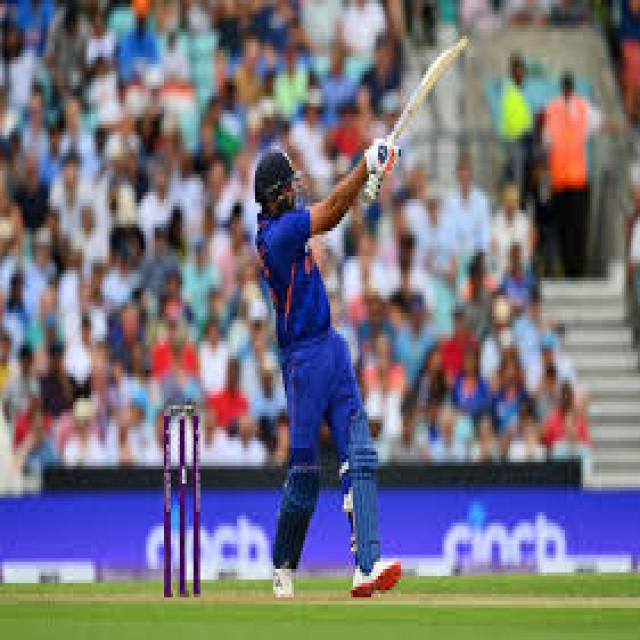toe: (450, 31, 468, 62)
